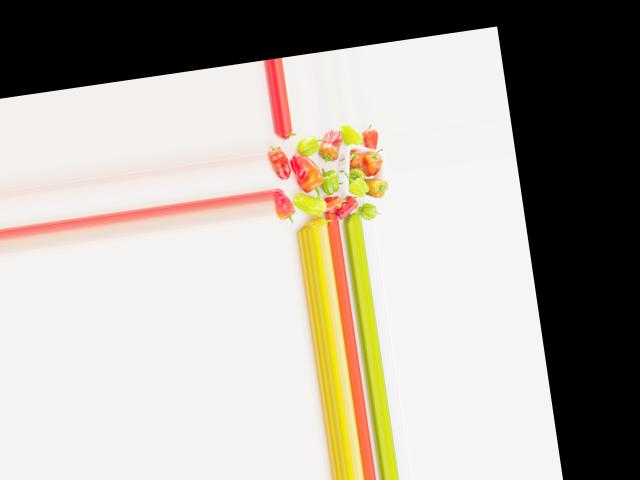bell_pepper: (272, 190, 299, 227)
